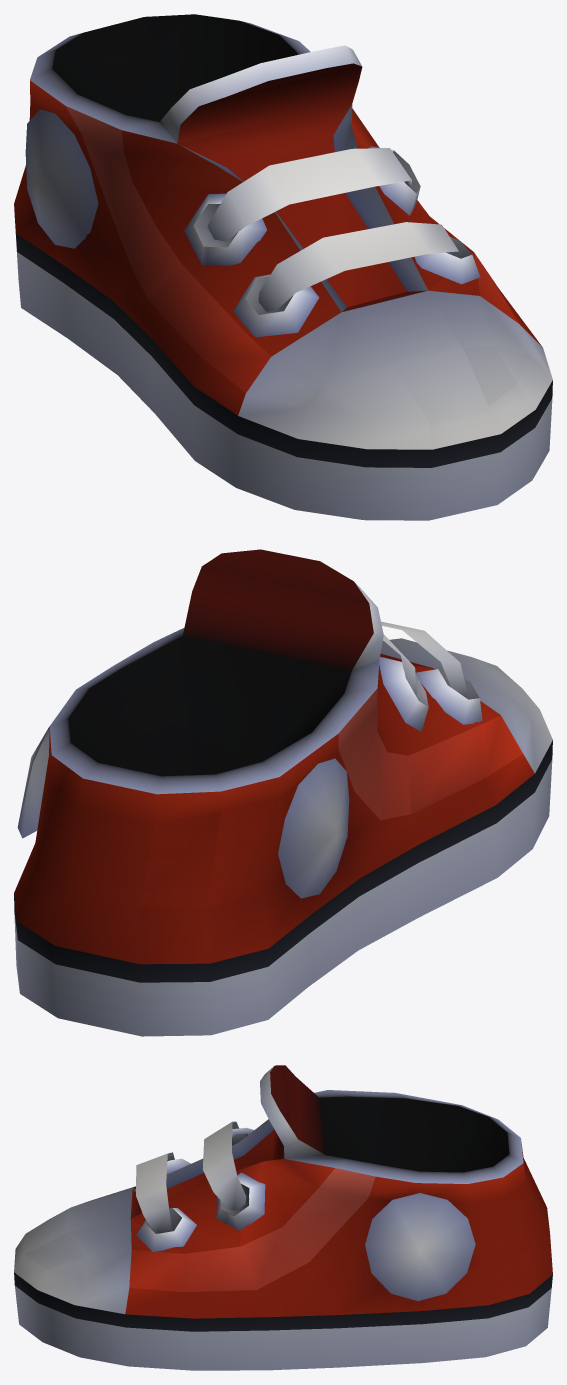
Rendered from Shoes_Kicks_Red_L.gltf.
The picture shows the model from 3 angles, top to bottom: view 1: azimuth 30°, elevation 25°; view 2: azimuth 150°, elevation 25°; view 3: azimuth 270°, elevation 25°; orthographic projection. The views are drawn at different scales.
Parts seen in each view (by area): view 1: Shoes_Kicks_Red_L; view 2: Shoes_Kicks_Red_L; view 3: Shoes_Kicks_Red_L.
Boxes of the visible parts, box(x1,y1,x2,y2) form: Shoes_Kicks_Red_L: box(14, 14, 552, 520); Shoes_Kicks_Red_L: box(14, 549, 552, 1036); Shoes_Kicks_Red_L: box(14, 1065, 552, 1370).
Size of the model in its own units: 0.3008 by 0.3011 by 0.6317.
2 materials, 2 textured.
